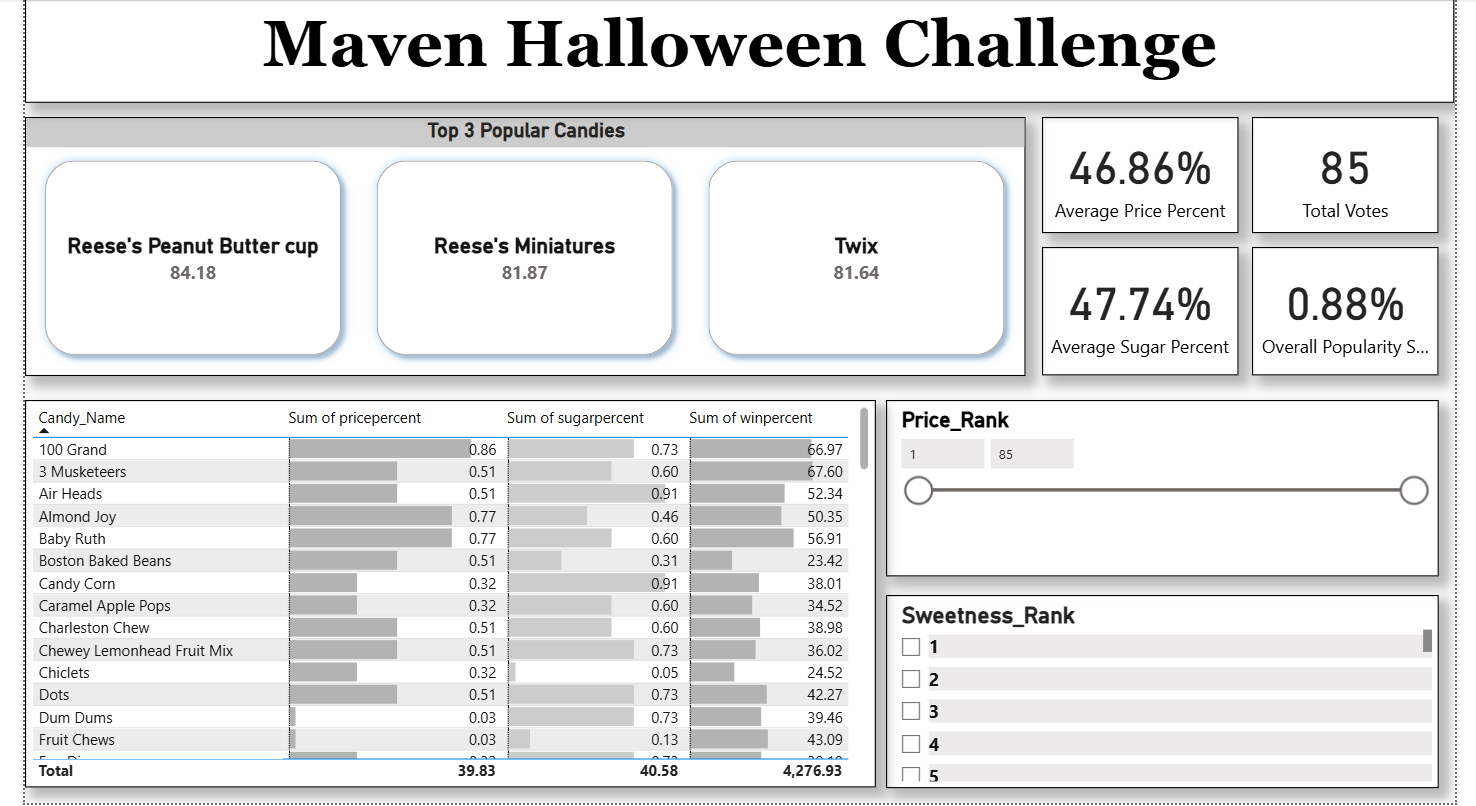

Layout of this report page (visuals, bound fields, positions):
{"tool":"powerbi","page":{"name":"Page 1","canvas":[1280,720],"ordinal":0},"visuals":[{"type":"card","fields":{"Values":["DAX.Average Price Percent"]},"box":[911.2,105.7,175.6,104.3],"z":0},{"type":"card","fields":{"Values":["DAX.Average Sugar Percent"]},"box":[911.2,222.3,175.6,115.3],"z":1000},{"type":"advancedSlicerVisual","title":"Top 3 Popular Candies","fields":{"Values":["candy-data.Candy_Name"]},"box":[0,105.7,896.1,231.9],"z":2000},{"type":"slicer","fields":{"Values":["candy-data.Sweetness_Rank"]},"box":[771.2,533.8,495.4,172.9],"z":3000},{"type":"slicer","fields":{"Values":["candy-data.Price_Rank"]},"box":[771.2,359.5,495.4,157.8],"z":4000},{"type":"tableEx","fields":{"Values":["candy-data.Candy_Name","Sum(candy-data.pricepercent)","Sum(candy-data.sugarpercent)","Sum(candy-data.winpercent)"]},"box":[0,359.5,761.6,347.2],"z":5000},{"type":"textbox","box":[0,0,1280.3,93.3],"z":6000},{"type":"card","fields":{"Values":["DAX.Total Votes"]},"box":[1099.1,105.7,167.4,104.3],"z":7000},{"type":"card","fields":{"Values":["DAX.Overall Popularity Score"]},"box":[1099.1,222.3,167.4,115.3],"z":8000}]}

Visuals, with their boxes on the page's 1280x720 design canvas (x1, y1, x2, y2). These are canvas units, not pixel positions in the 1476x806 screenshot, which may show the page scaled, cropped or inside an application window:
card - DAX.Average Price Percent: (x1=911, y1=106, x2=1087, y2=210)
card - DAX.Average Sugar Percent: (x1=911, y1=222, x2=1087, y2=338)
"Top 3 Popular Candies" advancedSlicerVisual: (x1=0, y1=106, x2=896, y2=338)
slicer - candy-data.Sweetness_Rank: (x1=771, y1=534, x2=1267, y2=707)
slicer - candy-data.Price_Rank: (x1=771, y1=360, x2=1267, y2=517)
tableEx - candy-data.Candy_Name x Sum(candy-data.pricepercent): (x1=0, y1=360, x2=762, y2=707)
textbox: (x1=0, y1=0, x2=1280, y2=93)
card - DAX.Total Votes: (x1=1099, y1=106, x2=1266, y2=210)
card - DAX.Overall Popularity Score: (x1=1099, y1=222, x2=1266, y2=338)
